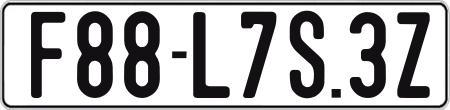3: (350, 12, 388, 102)
7: (240, 12, 279, 101)
8: (75, 9, 116, 102), (124, 8, 160, 96)
F: (30, 10, 67, 99)
L: (190, 9, 230, 98)
S: (290, 11, 330, 100)
Z: (396, 11, 430, 102)
